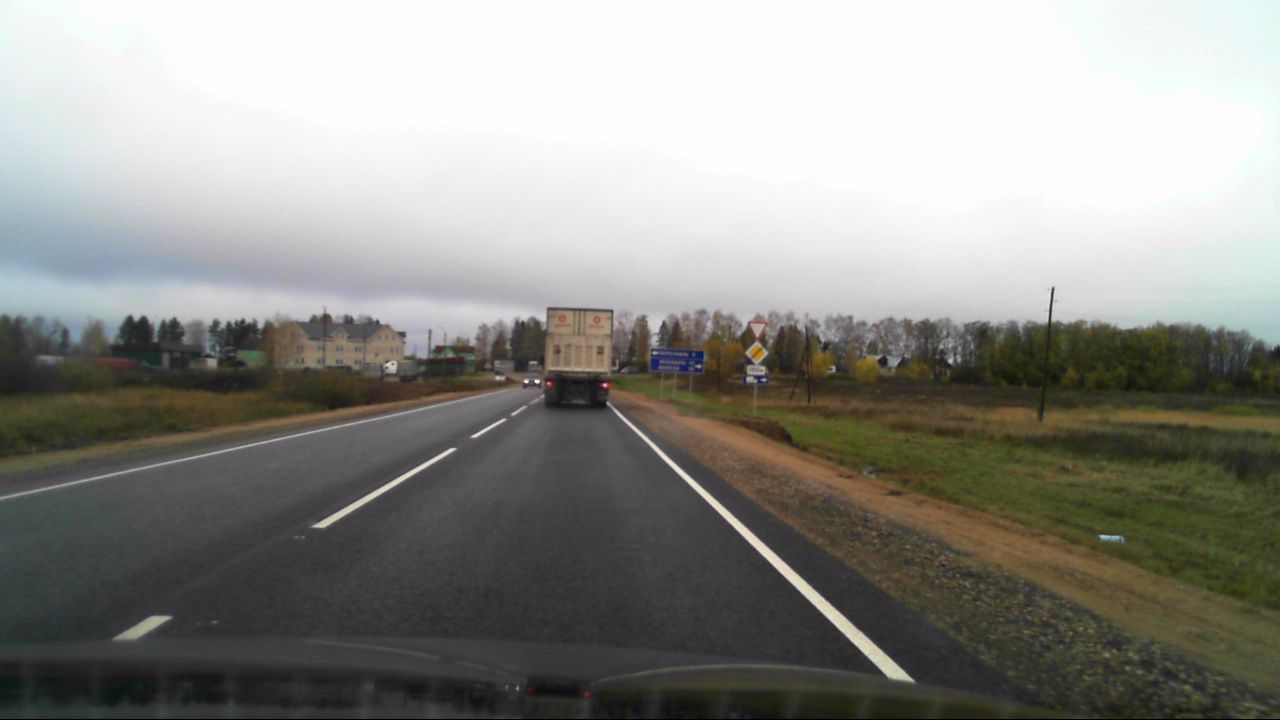main road: (745, 340, 770, 364)
